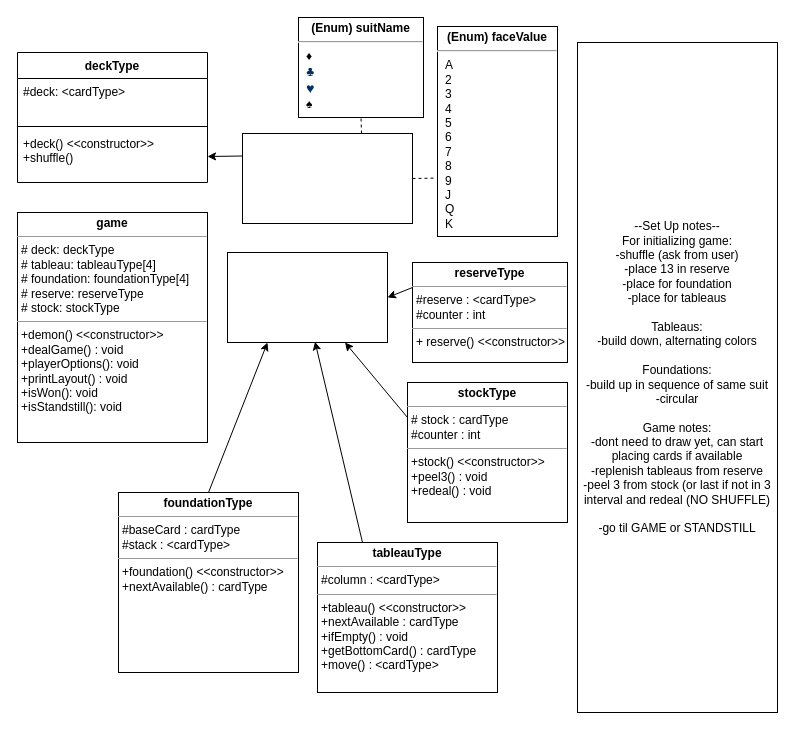
Image size: 795x730. Some labels were removed from this diagram. The shapes that lost their labels are listed below. From the top down, each one's centre as x and y in pixels, then its label:
At point 327,178: "cardType # suit: suitName # face: faceType +card() <<constructor>>".
At point 307,297: "stackType #cards : <cardType> +getTopCard() : cardType".
